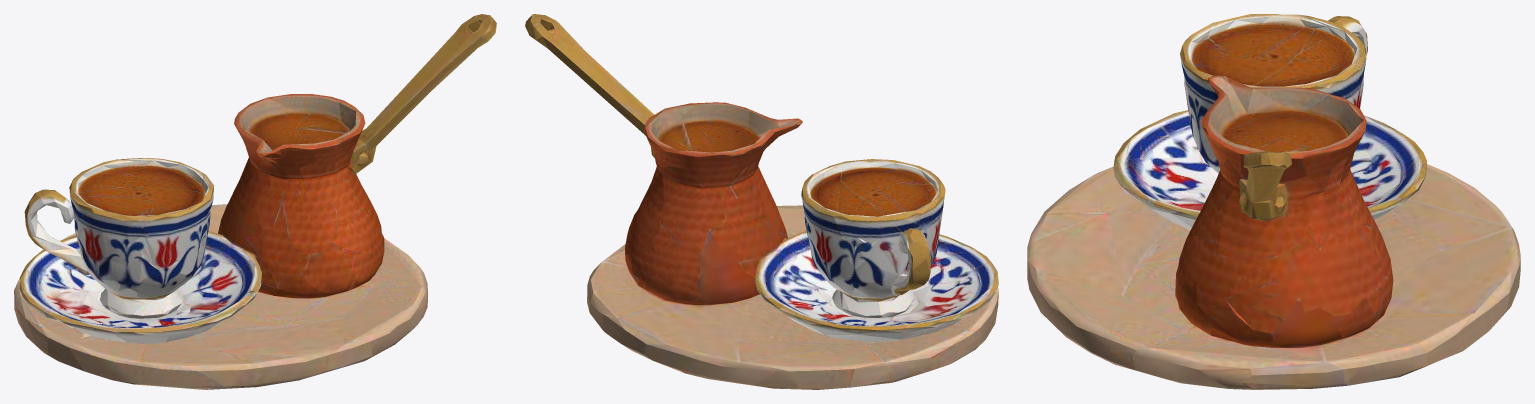
File: kahve.glb
3 renders of one model, left to right at view 1: azimuth 30°, elevation 25°; view 2: azimuth 150°, elevation 25°; view 3: azimuth 270°, elevation 25°, orthographic. The views are drawn at different scales.
Parts seen in each view (by area): view 1: output_unwrapped; view 2: output_unwrapped; view 3: output_unwrapped.
Boxes of the visible parts, x1,y1,x2,y2 form: output_unwrapped: (14,14,496,389); output_unwrapped: (525,14,998,389); output_unwrapped: (1027,14,1520,389).
Size of the model in its own units: 1.9 by 0.9144 by 1.38.
1 material, 1 textured.
